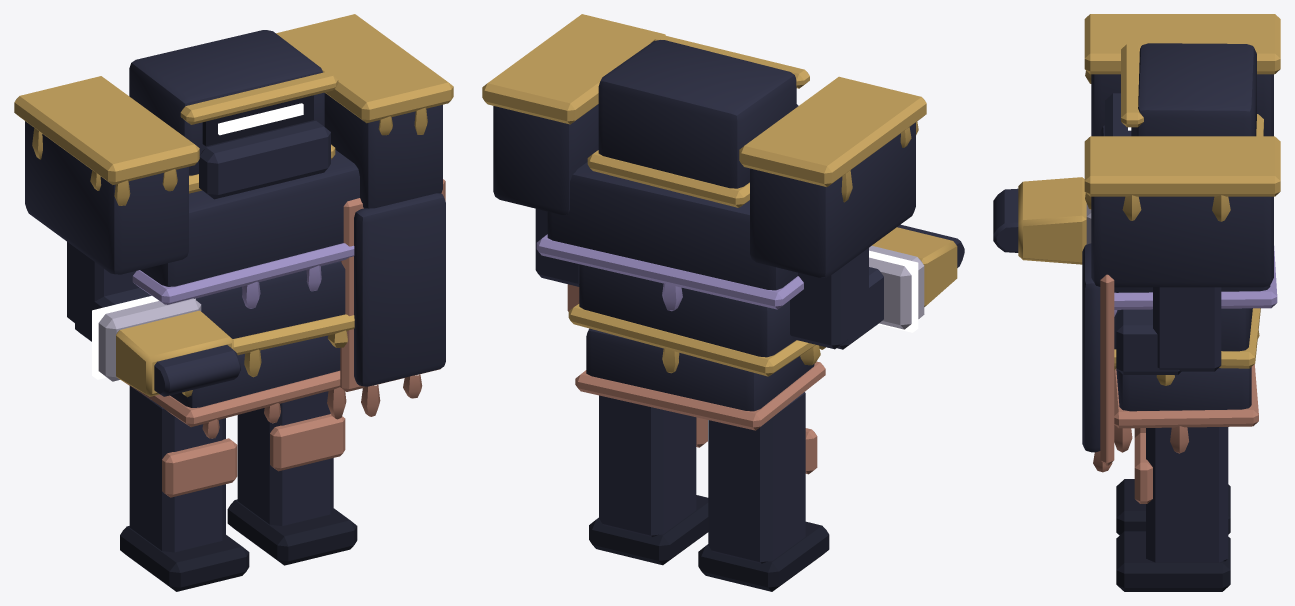
File: enemy_monolith.glb
The picture shows the model from 3 angles, left to right: view 1: azimuth 30°, elevation 25°; view 2: azimuth 150°, elevation 25°; view 3: azimuth 270°, elevation 25°; orthographic projection. The views are drawn at different scales.
Visible parts, largest first — view 1: Legs, ShoulderR, Slab3, Shield, ShoulderL, TopSlab, Cannon, Slab2, Slab1; view 2: Legs, ShoulderR, TopSlab, Slab3, ShoulderL, Slab2, Cannon, Slab1, Shield; view 3: ShoulderL, Legs, Shield, TopSlab, ShoulderR, Slab1, Cannon, Slab3, Slab2.
Boxes of the visible parts, box(x1,y1,x2,y2) form: Legs: box(120, 386, 357, 591); ShoulderR: box(14, 76, 199, 274); Slab3: box(132, 121, 359, 308); Shield: box(340, 179, 445, 416); ShoulderL: box(276, 14, 453, 208); TopSlab: box(129, 30, 338, 193); Cannon: box(67, 242, 240, 396); Slab2: box(182, 261, 354, 397); Slab1: box(123, 335, 346, 438); Legs: box(589, 392, 829, 591); ShoulderR: box(739, 76, 926, 277); TopSlab: box(587, 34, 809, 207); Slab3: box(536, 104, 803, 311); ShoulderL: box(482, 14, 665, 214); Slab2: box(568, 264, 825, 376); Cannon: box(790, 224, 964, 349); Slab1: box(575, 328, 825, 430); Shield: box(535, 208, 579, 311); ShoulderL: box(1084, 136, 1280, 287); Legs: box(1116, 427, 1230, 591); Shield: box(1082, 243, 1221, 472); TopSlab: box(1121, 43, 1263, 136); ShoulderR: box(1084, 14, 1280, 136); Slab1: box(1114, 364, 1258, 453); Cannon: box(993, 177, 1091, 264); Slab3: box(1100, 93, 1277, 316); Slab2: box(1114, 308, 1260, 385).
Bounding box in the file's own units: 1.74 × 2.3 × 1.26.
